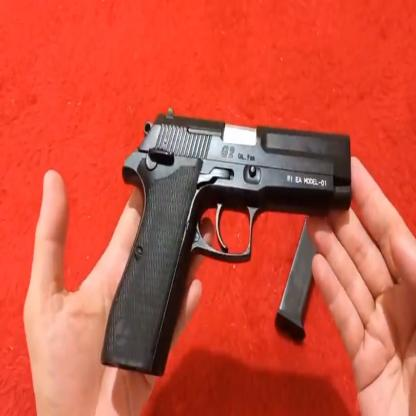handgun: (92, 114, 358, 384)
